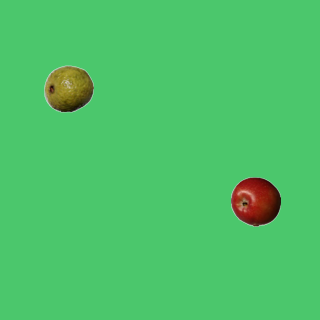Apple Braeburn: (230, 176, 280, 226)
Guava: (43, 63, 93, 113)
